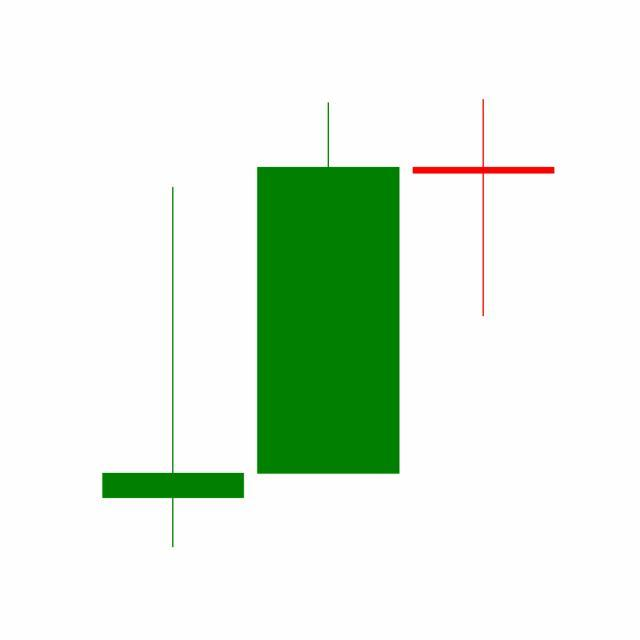Spinning Top: (406, 98, 562, 320)
